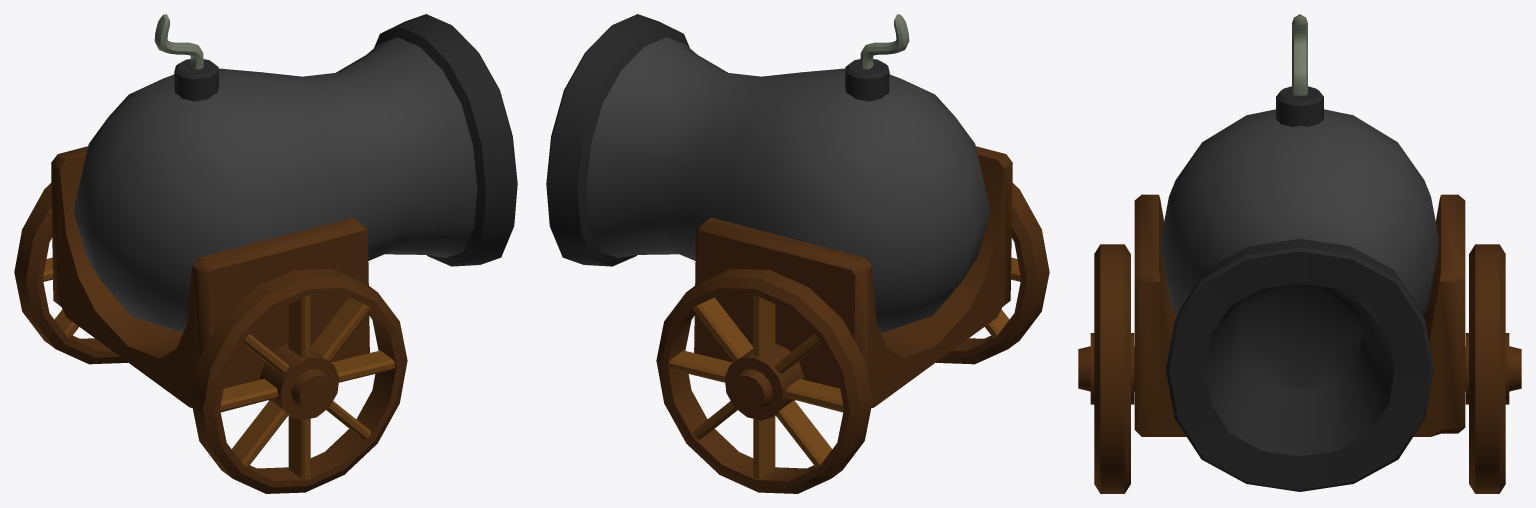
The model's file is Cannon.fbx.
3 views of the same model, side by side, from view 1: azimuth 30°, elevation 25°; view 2: azimuth 150°, elevation 25°; view 3: azimuth 270°, elevation 25° (orthographic). The views are drawn at different scales.
Visible parts, largest first — view 1: Cannon, Cannon_Wheels; view 2: Cannon, Cannon_Wheels; view 3: Cannon, Cannon_Wheels.
Part boxes in pixels (x1,y1,x2,y2): Cannon: (51, 14, 517, 412); Cannon_Wheels: (14, 183, 407, 493); Cannon: (546, 14, 1012, 412); Cannon_Wheels: (656, 183, 1049, 493); Cannon: (1134, 14, 1465, 491); Cannon_Wheels: (1078, 244, 1521, 493).
Bounding box in the file's own units: 337 × 367 × 332.
